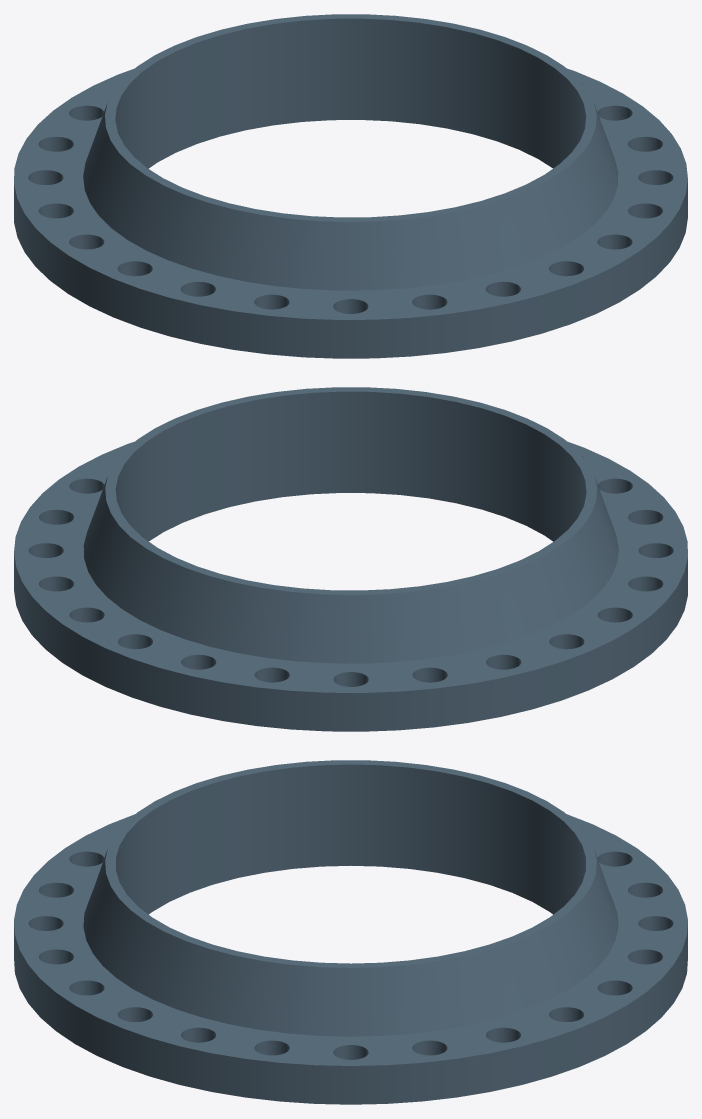
Rendered from flanec-vorotnikovyj-DN700-PN40.glb.
3 renders of one model, top to bottom at view 1: azimuth 30°, elevation 25°; view 2: azimuth 150°, elevation 25°; view 3: azimuth 270°, elevation 25°, orthographic.
Visible parts, largest first — view 1: Open CASCADE STEP translator 7.9 110; view 2: Open CASCADE STEP translator 7.9 110; view 3: Open CASCADE STEP translator 7.9 110.
Part boxes in pixels (x1,y1,x2,y2): Open CASCADE STEP translator 7.9 110: (14,14,687,358); Open CASCADE STEP translator 7.9 110: (14,387,687,731); Open CASCADE STEP translator 7.9 110: (14,760,687,1104).
Bounding box in the file's own units: 994 × 165 × 995.
